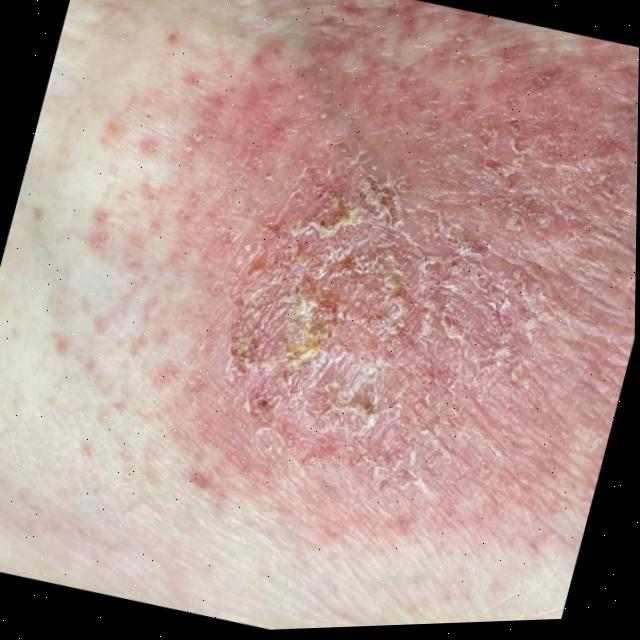Eczema: (137, 43, 632, 545)
